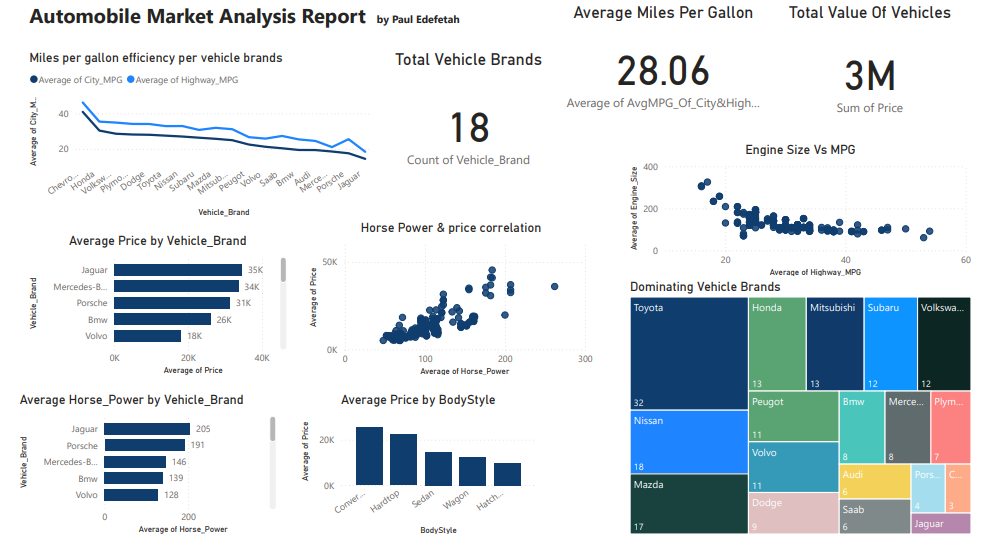

Layout of this report page (visuals, bound fields, positions):
{"tool":"powerbi","page":{"name":"Page 1","canvas":[1280,720],"ordinal":0},"visuals":[{"type":"barChart","title":"Average Price by Vehicle_Brand","fields":{"Category":["Automobile.Vehicle_Brand"],"Y":["Avg(Automobile.Price)"]},"box":[0,278.8,351.1,193.2],"z":0},{"type":"barChart","title":"Average Horse_Power by Vehicle_Brand","fields":{"Y":["Avg(Automobile.Horse_Power)"],"Category":["Automobile.Vehicle_Brand"]},"box":[0,527.5,351.1,193.2],"z":1000},{"type":"columnChart","title":"Average Price by BodyStyle","fields":{"Y":["Avg(Automobile.Price)"],"Category":["Automobile.BodyStyle"]},"box":[374.6,527.5,322.5,193.2],"z":2000},{"type":"scatterChart","title":"Horse Power & price correlation","fields":{"X":["Avg(Automobile.Horse_Power)"],"Y":["Avg(Automobile.Price)"],"Category":["Automobile.Vehicle_ID"]},"box":[386.4,278.8,386.4,230.1],"z":4000},{"type":"scatterChart","title":"Engine Size Vs MPG","fields":{"Category":["Automobile.Vehicle_ID"],"X":["Avg(Automobile.Highway_MPG)"],"Y":["Avg(Automobile.Engine_Size)"]},"box":[813,193.2,453.5,183.1],"z":5000},{"type":"lineChart","title":"Miles per gallon efficiency per vehicle brands","fields":{"Y":["Avg(Automobile.City_MPG)","Avg(Automobile.Highway_MPG)"],"Category":["Automobile.Vehicle_Brand"]},"box":[13.4,0,465.3,253.6],"z":8000},{"type":"card","title":"Total Value Of Vehicles","fields":{"Values":["Sum(Automobile.Price)"]},"box":[997.8,8.4,278.8,176.4],"z":8002},{"type":"card","title":"Average Miles Per Gallon","fields":{"Values":["Avg(Automobile.AvgMPG_Of_City&Highway)"]},"box":[727.3,8.4,270.4,161.3],"z":8003},{"type":"card","title":"Total Vehicle Brands","fields":{"Values":["Count(Automobile.Vehicle_Brand)"]},"box":[478.7,8.4,248.6,156.2],"z":8004},{"type":"treemap","title":"Dominating Vehicle Brands","fields":{"Group":["Automobile.Vehicle_Brand"],"Values":["CountNonNull(Automobile.BodyStyle)"]},"box":[813,376.3,463.6,344.4],"z":8005}]}

Visuals, with their boxes on the page's 1280x720 design canvas (x1, y1, x2, y2). These are canvas units, not pixel positions in the 994x537 screenshot, which may show the page scaled, cropped or inside an application window:
"Average Price by Vehicle_Brand" barChart: x1=0, y1=279, x2=351, y2=472
"Average Horse_Power by Vehicle_Brand" barChart: x1=0, y1=528, x2=351, y2=721
"Average Price by BodyStyle" columnChart: x1=375, y1=528, x2=697, y2=721
"Horse Power & price correlation" scatterChart: x1=386, y1=279, x2=773, y2=509
"Engine Size Vs MPG" scatterChart: x1=813, y1=193, x2=1266, y2=376
"Miles per gallon efficiency per vehicle brands" lineChart: x1=13, y1=0, x2=479, y2=254
"Total Value Of Vehicles" card: x1=998, y1=8, x2=1277, y2=185
"Average Miles Per Gallon" card: x1=727, y1=8, x2=998, y2=170
"Total Vehicle Brands" card: x1=479, y1=8, x2=727, y2=165
"Dominating Vehicle Brands" treemap: x1=813, y1=376, x2=1277, y2=721
